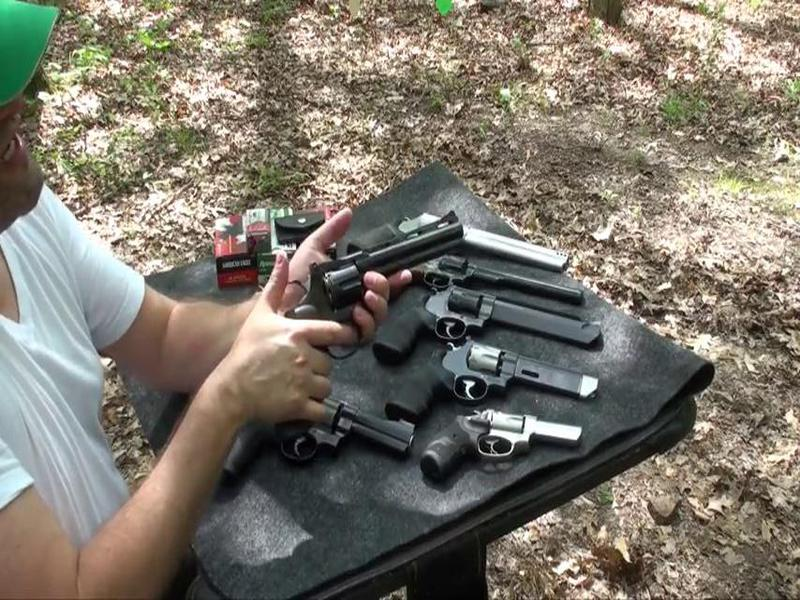Revolver: (263, 214, 466, 334)
